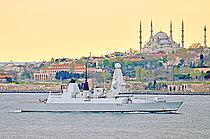MIL_Ship: (18, 62, 184, 114)
